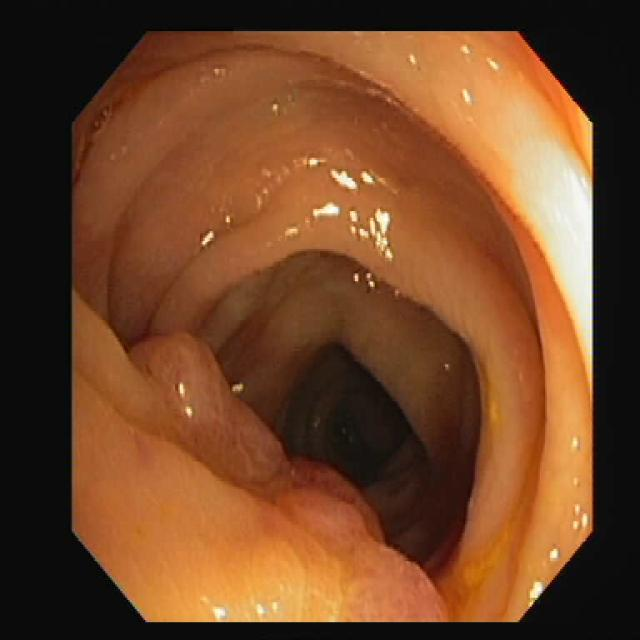tumor: (145, 333, 435, 618)
